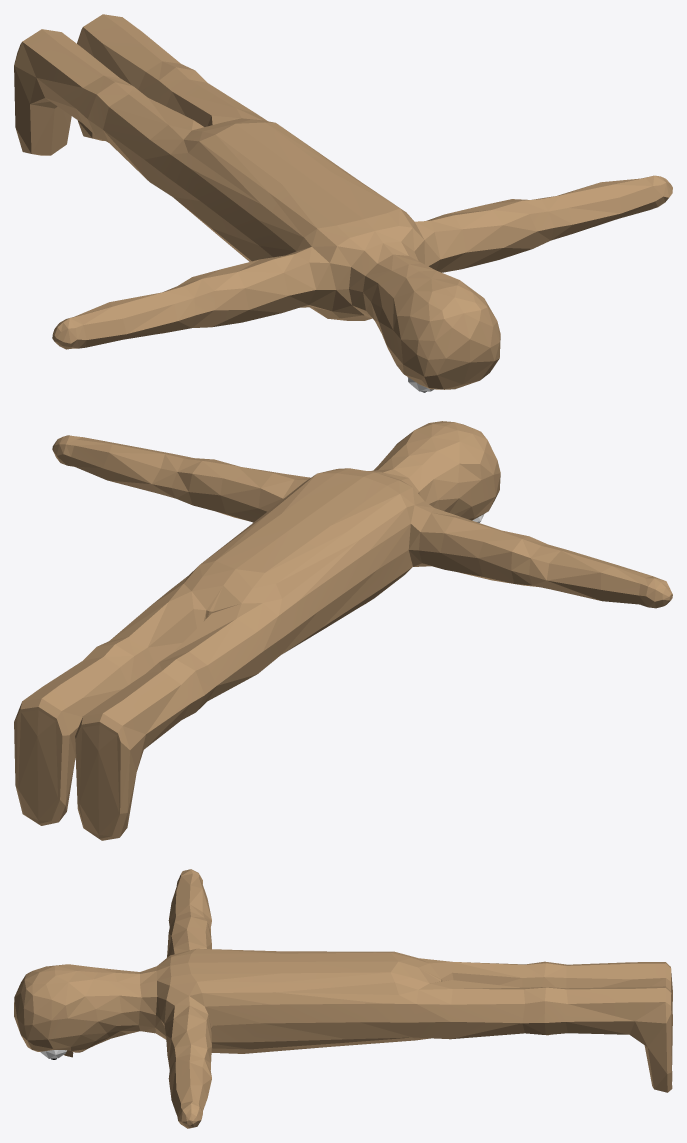
File: Character.glb
The picture shows the model from 3 angles, top to bottom: view 1: azimuth 30°, elevation 25°; view 2: azimuth 150°, elevation 25°; view 3: azimuth 270°, elevation 25°; orthographic projection. The views are drawn at different scales.
Parts seen in each view (by area): view 1: Character; view 2: Character; view 3: Character.
Part boxes in pixels (x1=…): Character: x1=14, y1=14, x2=672, y2=392; Character: x1=14, y1=421, x2=672, y2=840; Character: x1=14, y1=869, x2=672, y2=1128.
Size of the model in its own units: 1.21 by 0.271 by 1.37.
1 material, 1 textured.
